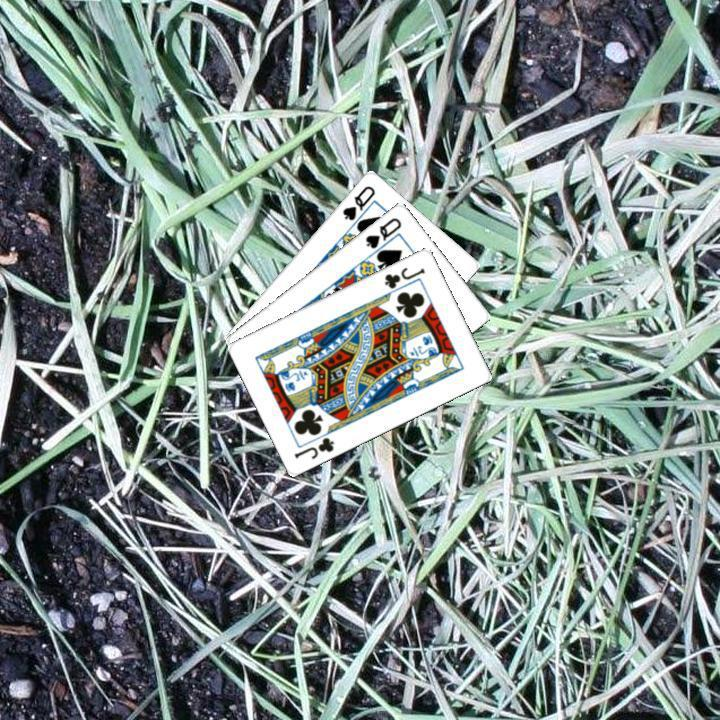J: (380, 262, 427, 291), (290, 432, 336, 461)
Q: (338, 181, 377, 222), (361, 213, 404, 250)
